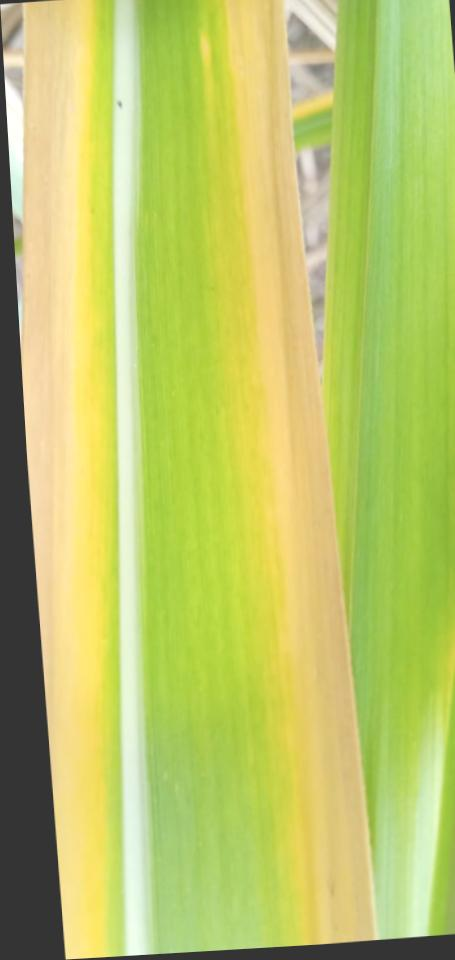Rust: (116, 99, 123, 109)
Yellow: (222, 0, 376, 945), (21, 0, 105, 960), (200, 33, 212, 88)
